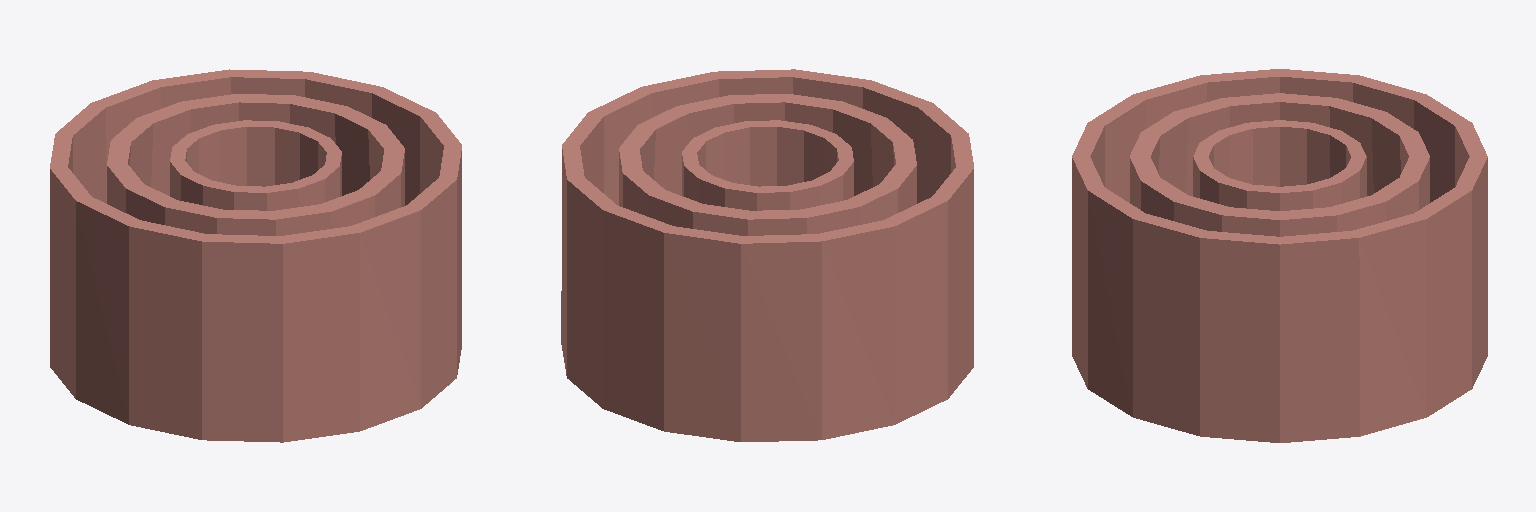
3 renders of one model, left to right at view 1: azimuth 30°, elevation 25°; view 2: azimuth 150°, elevation 25°; view 3: azimuth 270°, elevation 25°, orthographic.
Parts seen in each view (by area): view 1: base.002; view 2: base.002; view 3: base.002.
Boxes of the visible parts, x1,y1,x2,y2 form: base.002: [50, 69, 461, 442]; base.002: [561, 69, 973, 441]; base.002: [1072, 69, 1487, 442].
Bounding box in the file's own units: 0.1972 × 0.1038 × 0.1972.